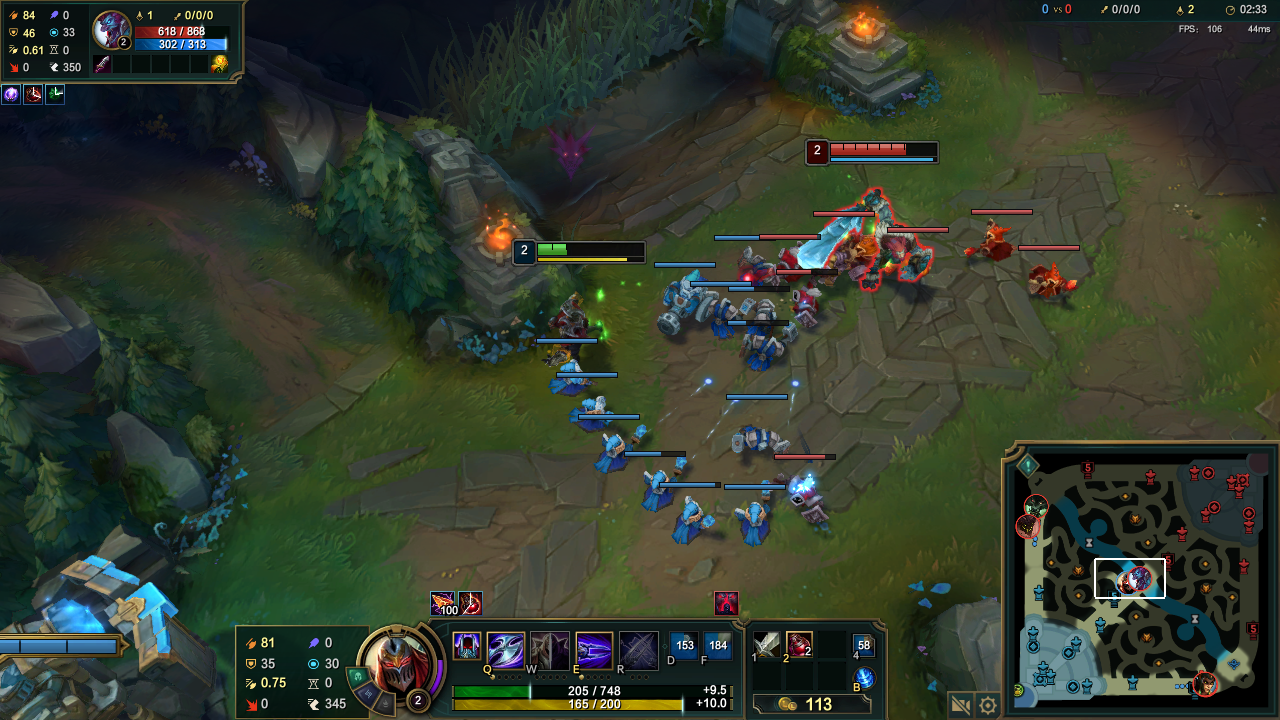DFYX: (827, 141, 938, 156)
WFXB: (654, 274, 714, 335)
